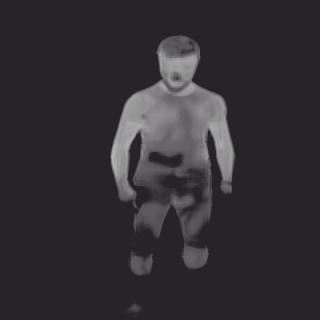Gun: (146, 151, 184, 189)
